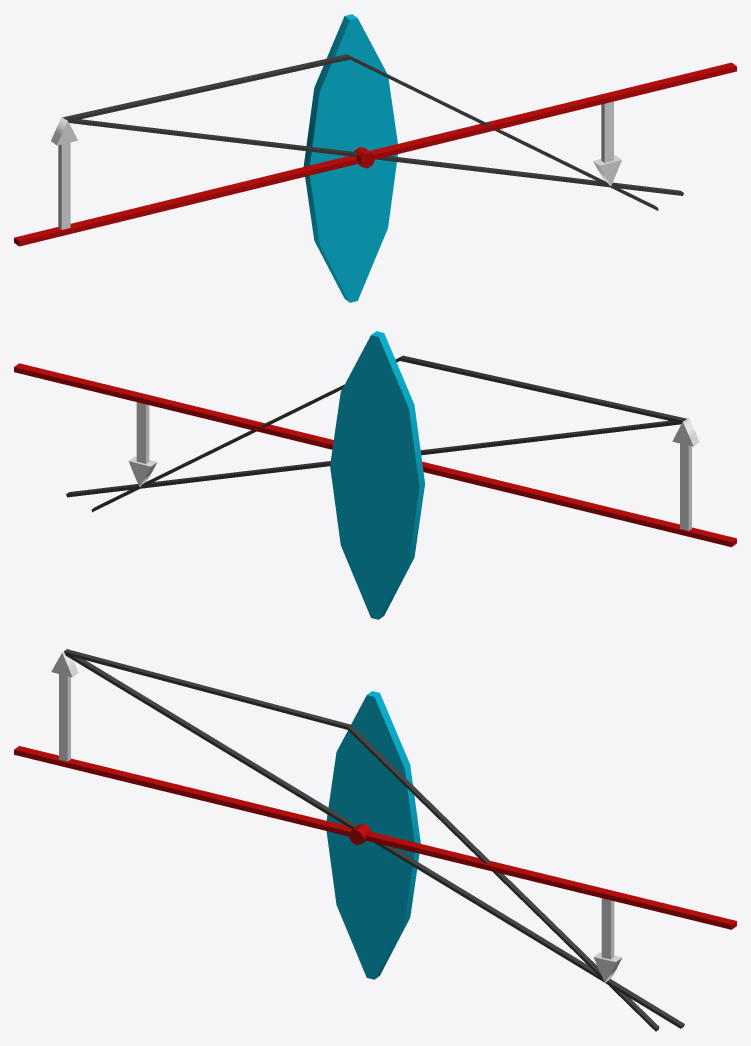
Rendered from last2.fbx.
3 renders of one model, top to bottom at view 1: azimuth 30°, elevation 25°; view 2: azimuth 150°, elevation 25°; view 3: azimuth 330°, elevation 25°, orthographic.
Visible parts, largest first — view 1: last2; view 2: last2; view 3: last2.
Part boxes in pixels (x1,y1,x2,y2): last2: (14, 14, 736, 302); last2: (14, 331, 736, 619); last2: (14, 648, 736, 1031).
Bounding box in the file's own units: 28.81 × 10.85 × 1.36.
